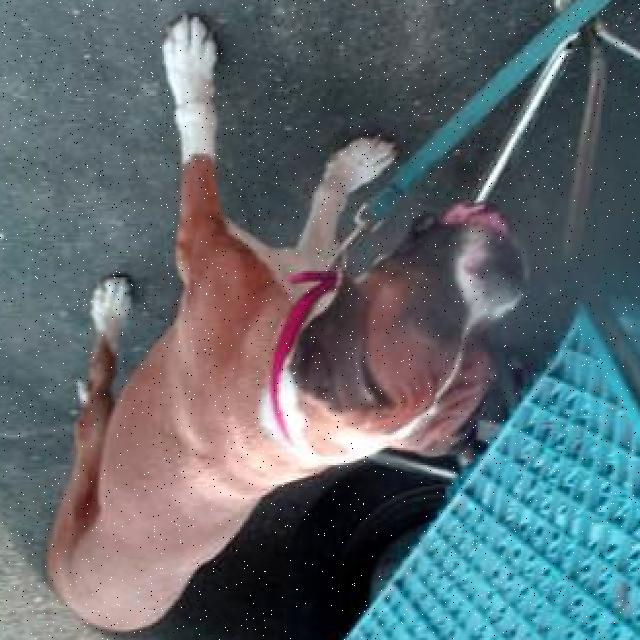Dog: (262, 180, 566, 511)
